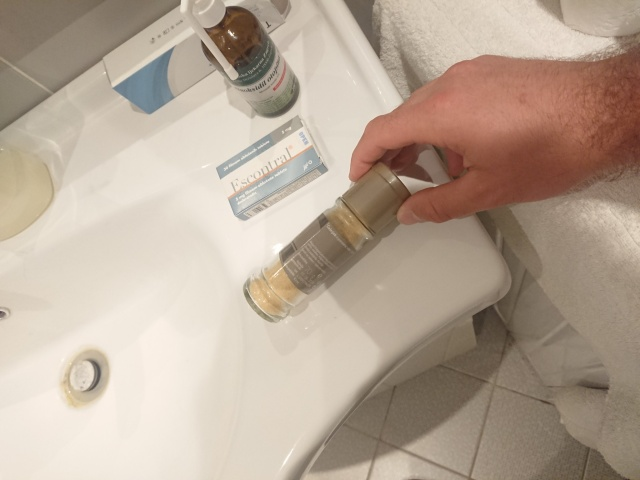Kotanyi Garlic Granules 70g: (240, 157, 417, 325)
